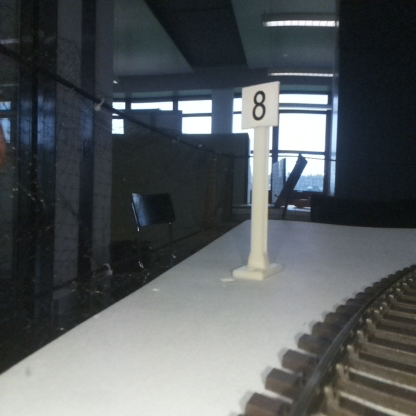white-info-8: (242, 82, 278, 277)
